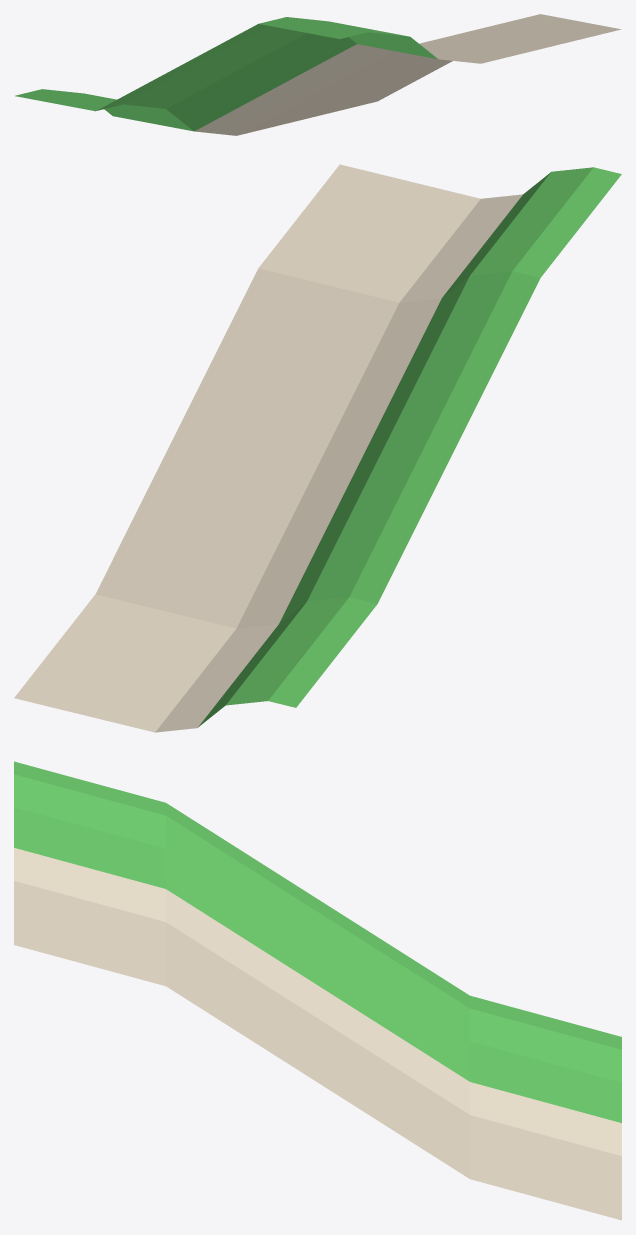
The model's file is Hilly_Terrain_Path_Hill_Sharp_Plain_Side.glb.
3 renders of one model, top to bottom at view 1: azimuth 30°, elevation 25°; view 2: azimuth 150°, elevation 25°; view 3: azimuth 270°, elevation 25°, orthographic. The views are drawn at different scales.
Parts seen in each view (by area): view 1: Hilly_Terrain_Path_Hill_Sharp_Plain_Side; view 2: Hilly_Terrain_Path_Hill_Sharp_Plain_Side; view 3: Hilly_Terrain_Path_Hill_Sharp_Plain_Side.
Part boxes in pixels (x1=…): Hilly_Terrain_Path_Hill_Sharp_Plain_Side: x1=15, y1=14, x2=621, y2=135; Hilly_Terrain_Path_Hill_Sharp_Plain_Side: x1=14, y1=164, x2=621, y2=732; Hilly_Terrain_Path_Hill_Sharp_Plain_Side: x1=14, y1=761, x2=621, y2=1220.
Bounding box in the file's own units: 0.53 × 0.636 × 1.06.
